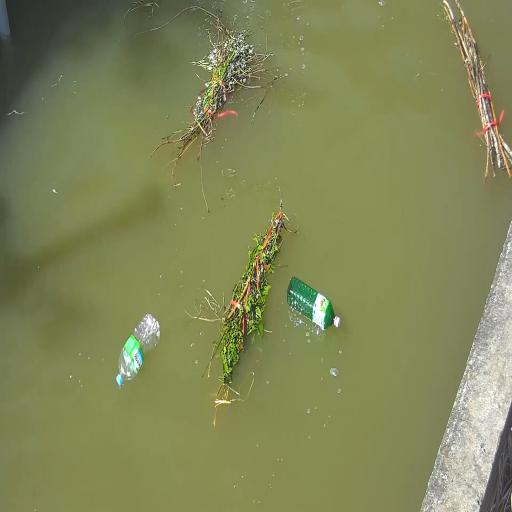plastic: (116, 306, 160, 394), (286, 273, 342, 331)
twig: (203, 207, 286, 412), (442, 4, 508, 171), (184, 23, 258, 159)
